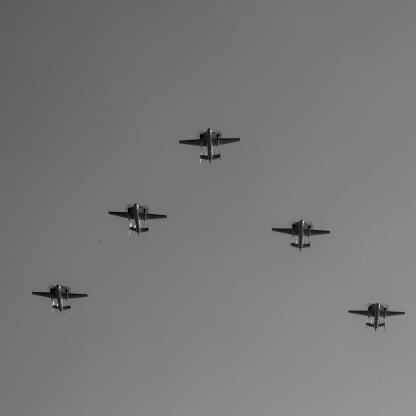E2: (180, 129, 241, 166), (109, 204, 168, 238), (273, 221, 332, 254), (349, 303, 406, 333), (33, 285, 89, 315)
